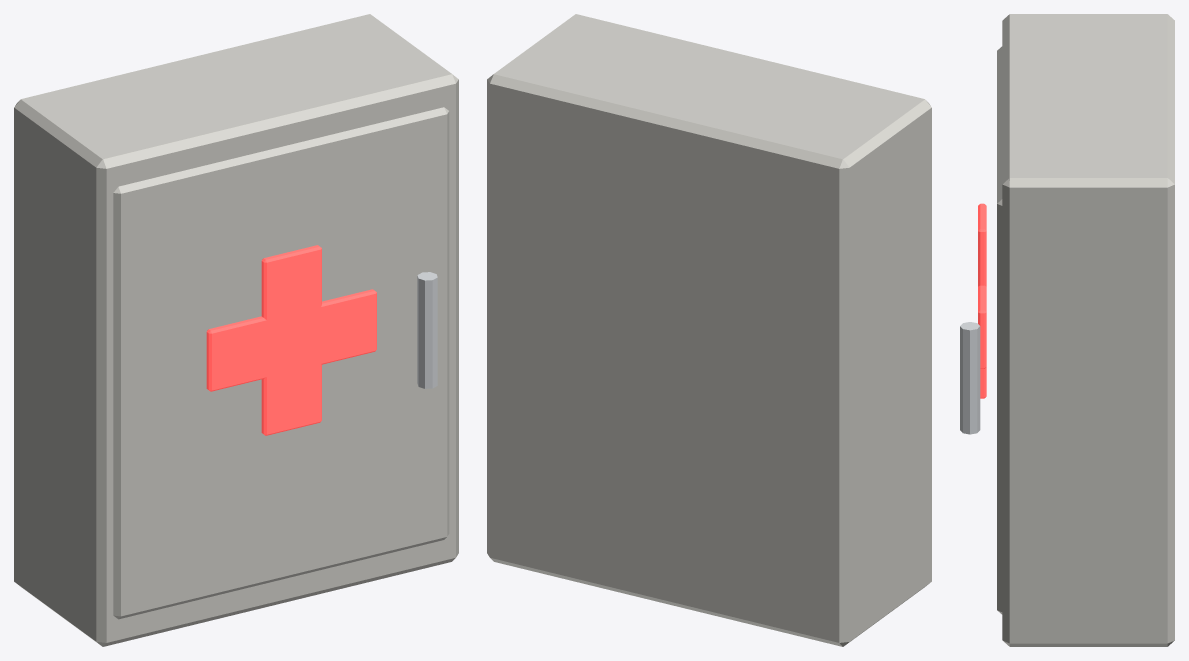
The model's file is submarine-interior-and-control-room-first-aid-locker-61151ce3__36505.glb.
3 renders of one model, left to right at view 1: azimuth 30°, elevation 25°; view 2: azimuth 150°, elevation 25°; view 3: azimuth 270°, elevation 25°, orthographic. The views are drawn at different scales.
Parts seen in each view (by area): view 1: door/paint, first-aid-locker, door/signal, door/metal; view 2: first-aid-locker; view 3: first-aid-locker, door/paint, door/metal, door/signal.
Boxes of the visible parts, x1,y1,x2,y2 form: door/paint: (113, 107, 449, 619); first-aid-locker: (14, 14, 458, 646); door/signal: (206, 245, 376, 435); door/metal: (417, 272, 437, 388); first-aid-locker: (487, 14, 931, 646); first-aid-locker: (1002, 14, 1174, 646); door/paint: (997, 46, 1002, 614); door/metal: (960, 322, 980, 434); door/signal: (978, 203, 986, 398).
Bounding box in the file's own units: 0.56 × 0.72 × 0.299.
